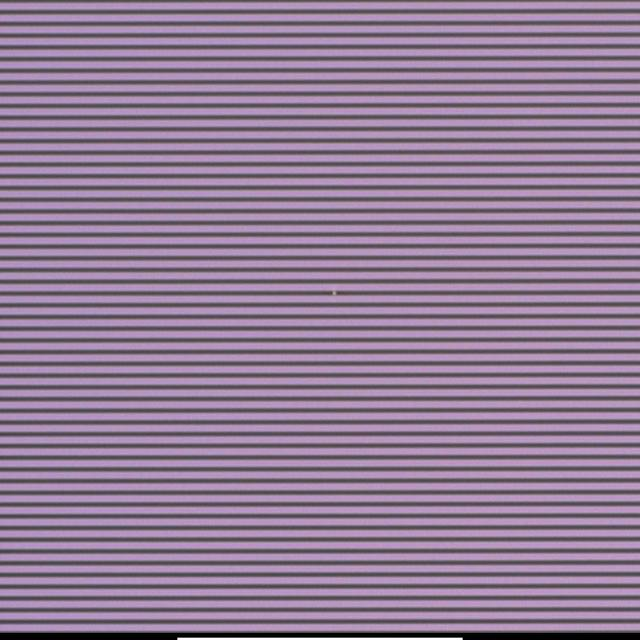03_intrusion: (329, 288, 341, 300)
